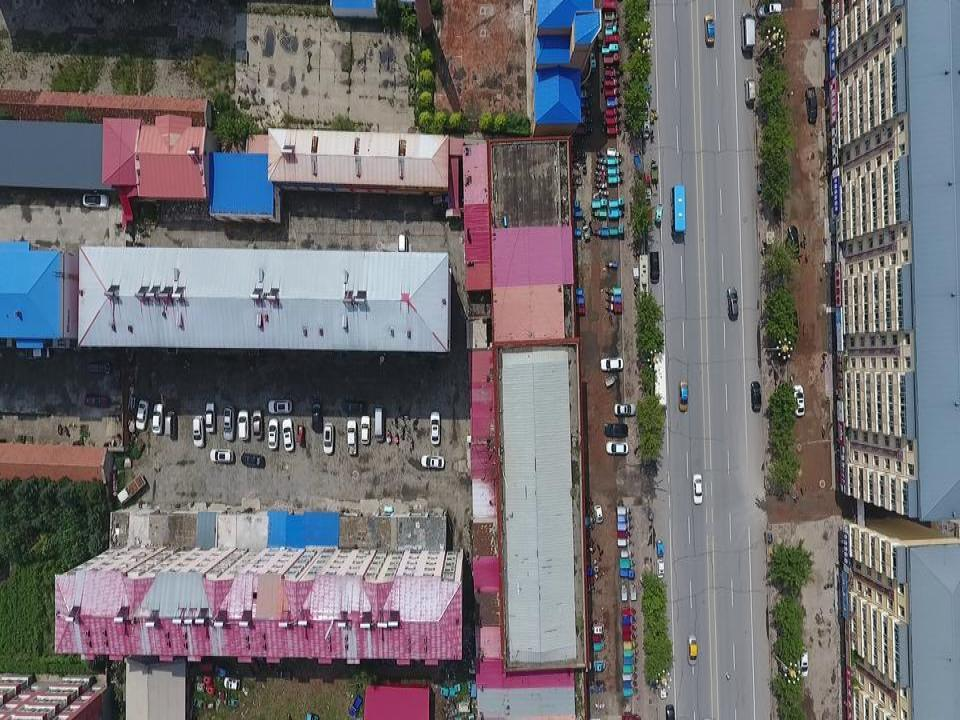bus: (671, 185, 686, 236)
car: (191, 413, 204, 447), (346, 420, 358, 456), (82, 193, 109, 208), (787, 225, 800, 255), (223, 405, 234, 440), (727, 285, 738, 320), (282, 418, 294, 450), (322, 422, 334, 454), (750, 380, 762, 412), (793, 384, 805, 416), (796, 646, 808, 678), (687, 634, 698, 666), (692, 474, 703, 506), (84, 393, 109, 407), (603, 423, 628, 437), (136, 400, 148, 429), (241, 452, 264, 467), (600, 357, 623, 372), (757, 3, 783, 16), (605, 441, 629, 455), (152, 403, 163, 433), (252, 407, 262, 440), (268, 417, 278, 450), (430, 411, 440, 444), (704, 15, 715, 45), (421, 455, 445, 468), (210, 449, 232, 463), (267, 400, 292, 412), (679, 379, 688, 412), (361, 415, 371, 444), (205, 400, 214, 432), (239, 410, 248, 442), (312, 400, 321, 432), (614, 402, 636, 414), (86, 363, 110, 373), (224, 676, 240, 689), (656, 558, 664, 578), (594, 504, 602, 523), (593, 641, 606, 651), (666, 704, 674, 720), (656, 539, 663, 557), (592, 635, 605, 640)
truck: (116, 473, 148, 507), (805, 87, 817, 124)
van: (741, 12, 756, 52), (375, 407, 385, 440), (650, 251, 660, 284), (744, 77, 755, 103), (165, 410, 175, 438)
